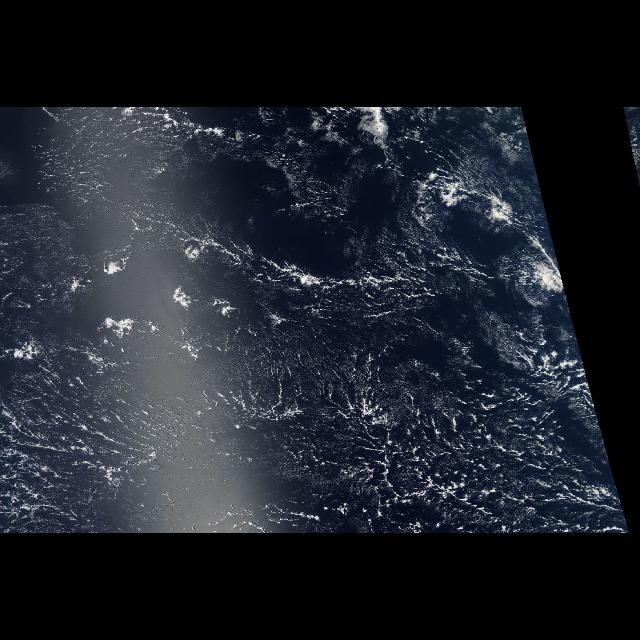Gravel: (5, 316, 628, 534)
Sugar: (0, 335, 590, 533), (5, 110, 428, 314)
